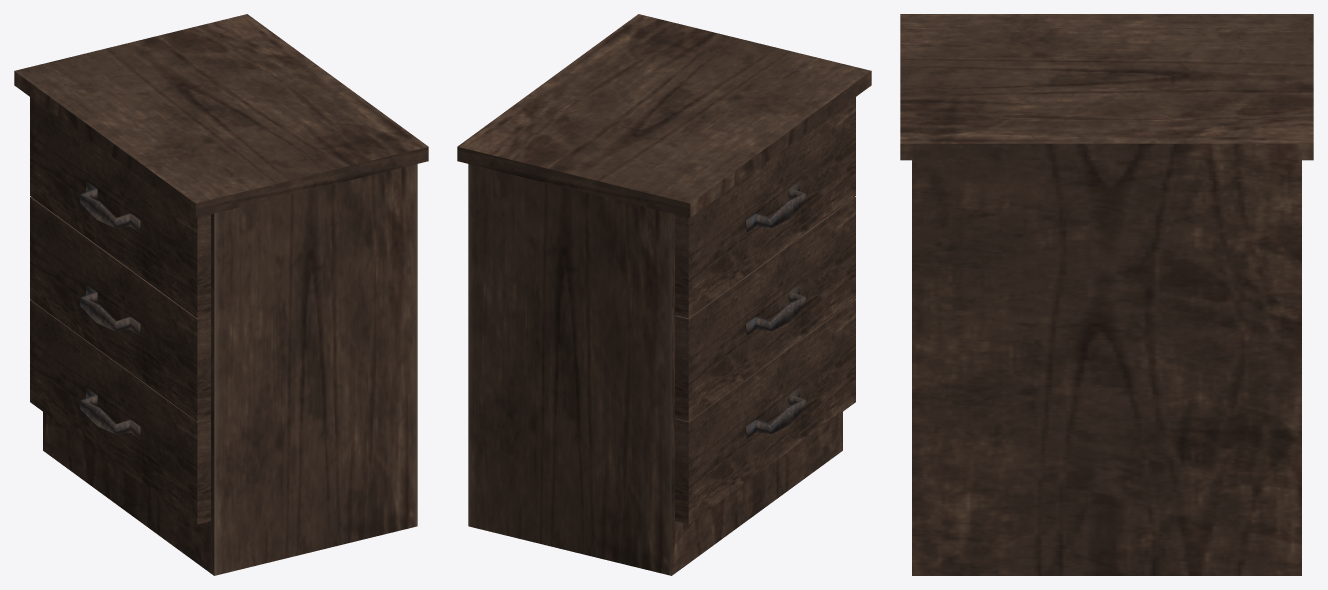
Rendered from Drawer.fbx.
The picture shows the model from 3 angles, left to right: view 1: azimuth 30°, elevation 25°; view 2: azimuth 150°, elevation 25°; view 3: azimuth 270°, elevation 25°; orthographic projection. The views are drawn at different scales.
Visible parts, largest first — view 1: Cube.019, Cube.022, Cube.023, Cube.021; view 2: Cube.019, Cube.022, Cube.023, Cube.021; view 3: Cube.019.
Boxes of the visible parts, <box> form: Cube.019: <box>14,14,428,575</box>; Cube.022: <box>30,197,210,421</box>; Cube.023: <box>30,300,210,524</box>; Cube.021: <box>30,97,210,318</box>; Cube.019: <box>457,14,871,575</box>; Cube.022: <box>675,197,855,421</box>; Cube.023: <box>675,300,855,524</box>; Cube.021: <box>675,97,855,318</box>; Cube.019: <box>900,14,1313,575</box>.
Bounding box in the file's own units: 1.37 × 1.79 × 2.08.
